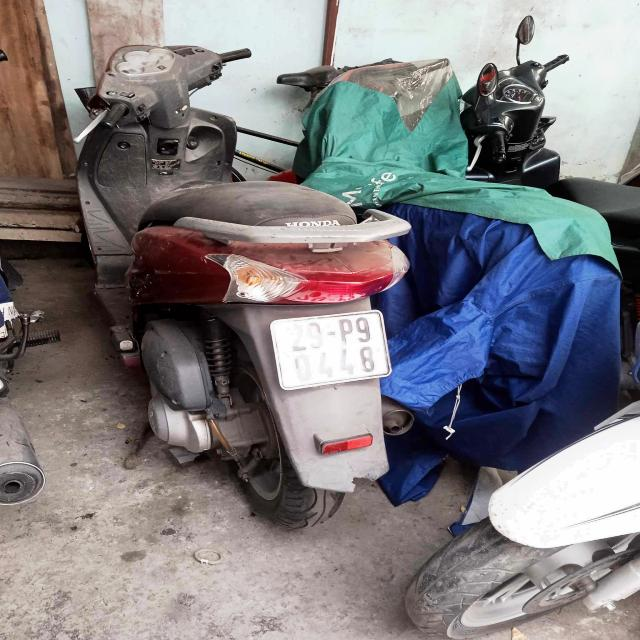license_plate: (259, 304, 405, 400)
